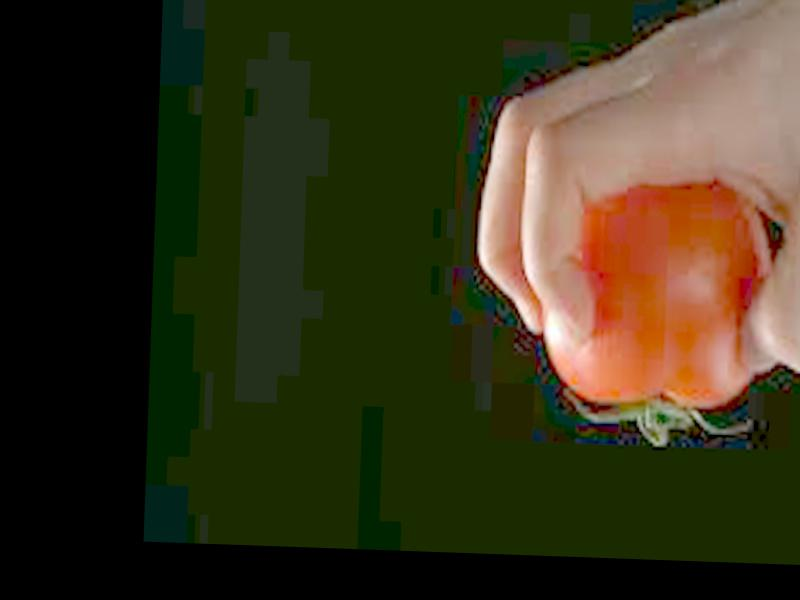Tomato: (541, 183, 772, 445)
